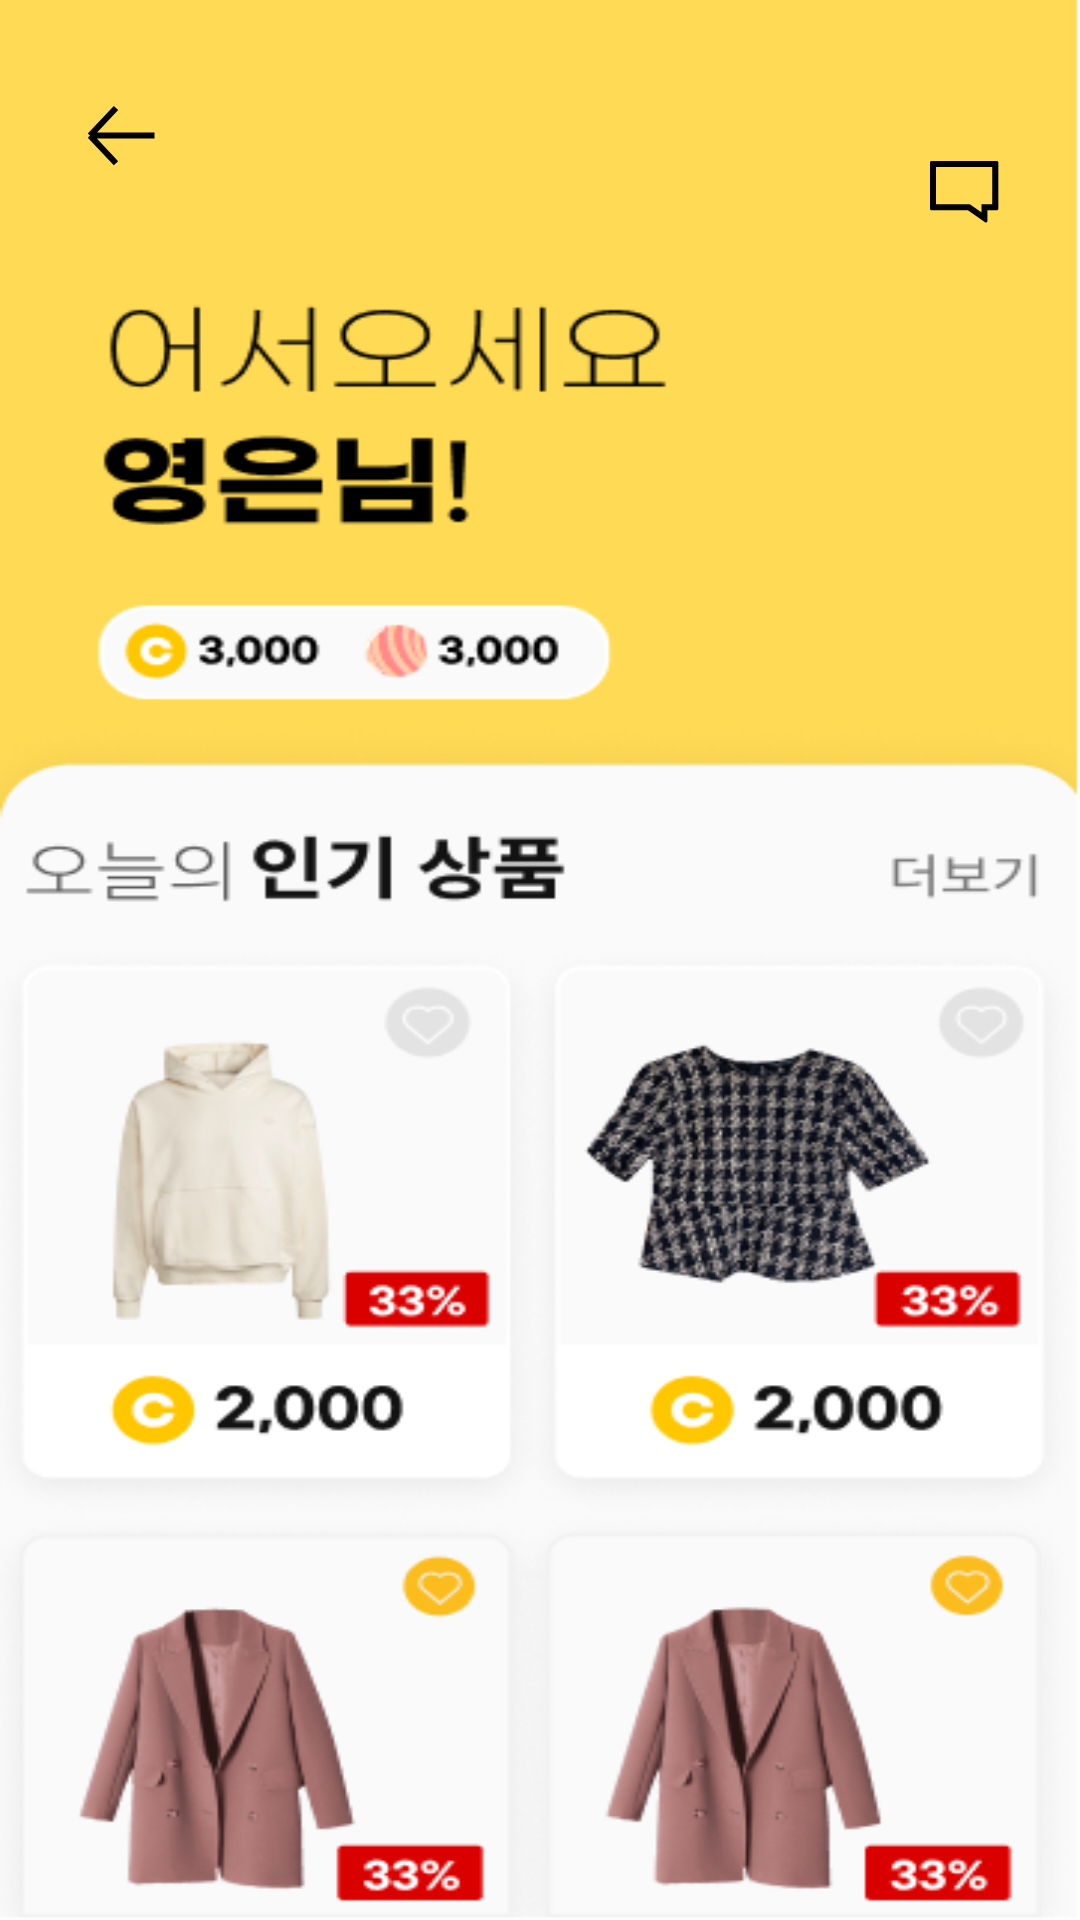

Named icons in this screenshot (1080px×1920px) and their bounding boxes, (x1, y1, x2, y2):
arrowback: (88, 106, 155, 165)
chatbutton: (930, 161, 999, 223)
